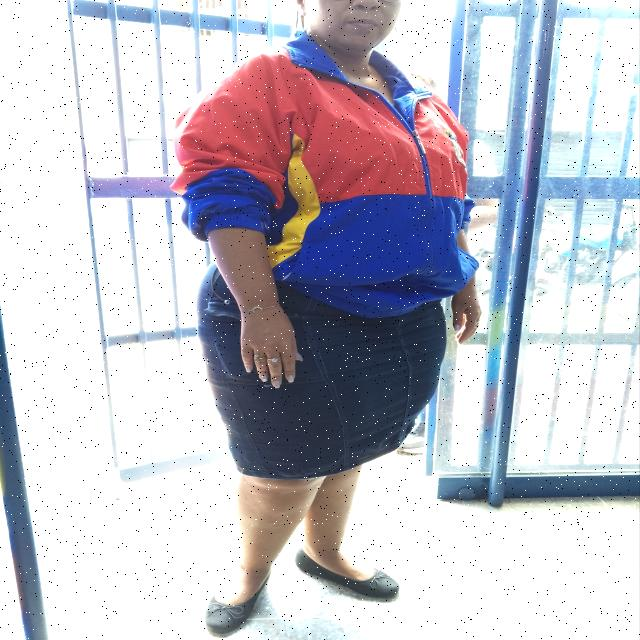chaqueta_unefa: (168, 30, 480, 319)
pantalon_oscuro: (197, 264, 447, 480)
